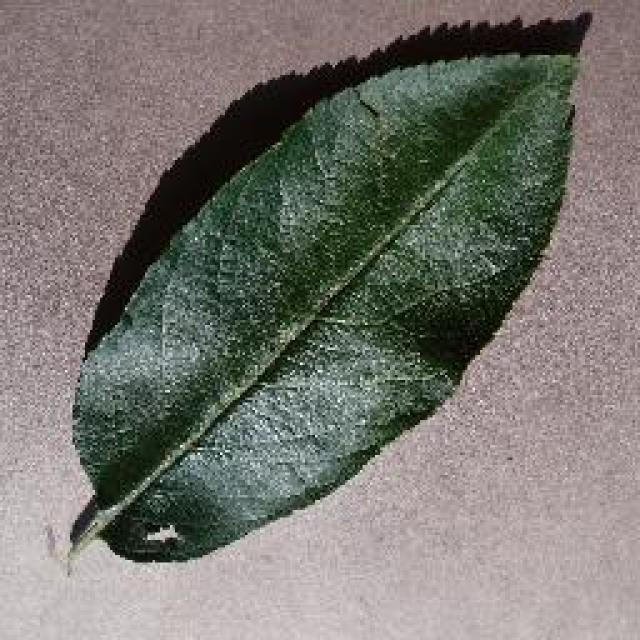apple healthy: (62, 10, 592, 570)
